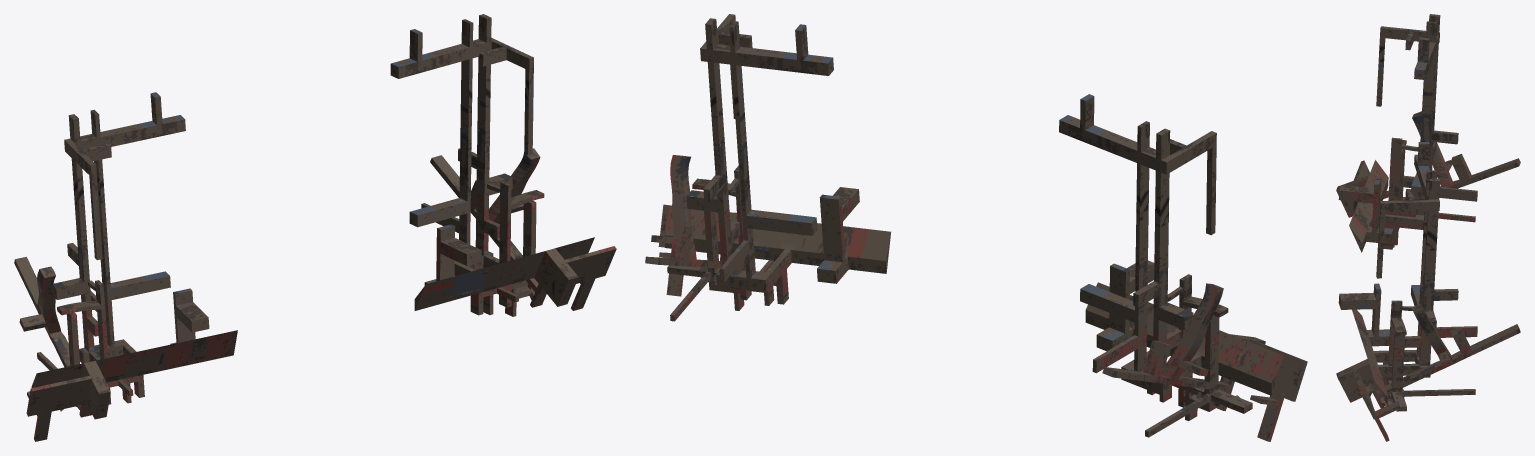
Rendered from SM_Debris_10.fbx.
3 views of the same model, side by side, from view 1: azimuth 30°, elevation 25°; view 2: azimuth 150°, elevation 25°; view 3: azimuth 270°, elevation 25° (orthographic). The views are drawn at different scales.
Parts seen in each view (by area): view 1: Retopo_R_Starship_RAExtr; view 2: Retopo_R_Starship_RAExtr; view 3: Retopo_R_Starship_RAExtr.
Part boxes in pixels (x1,y1,x2,y2): Retopo_R_Starship_RAExtr: (14, 14, 616, 441); Retopo_R_Starship_RAExtr: (645, 14, 1307, 441); Retopo_R_Starship_RAExtr: (1336, 14, 1520, 441).
Size of the model in its own units: 700 by 338 by 234.
